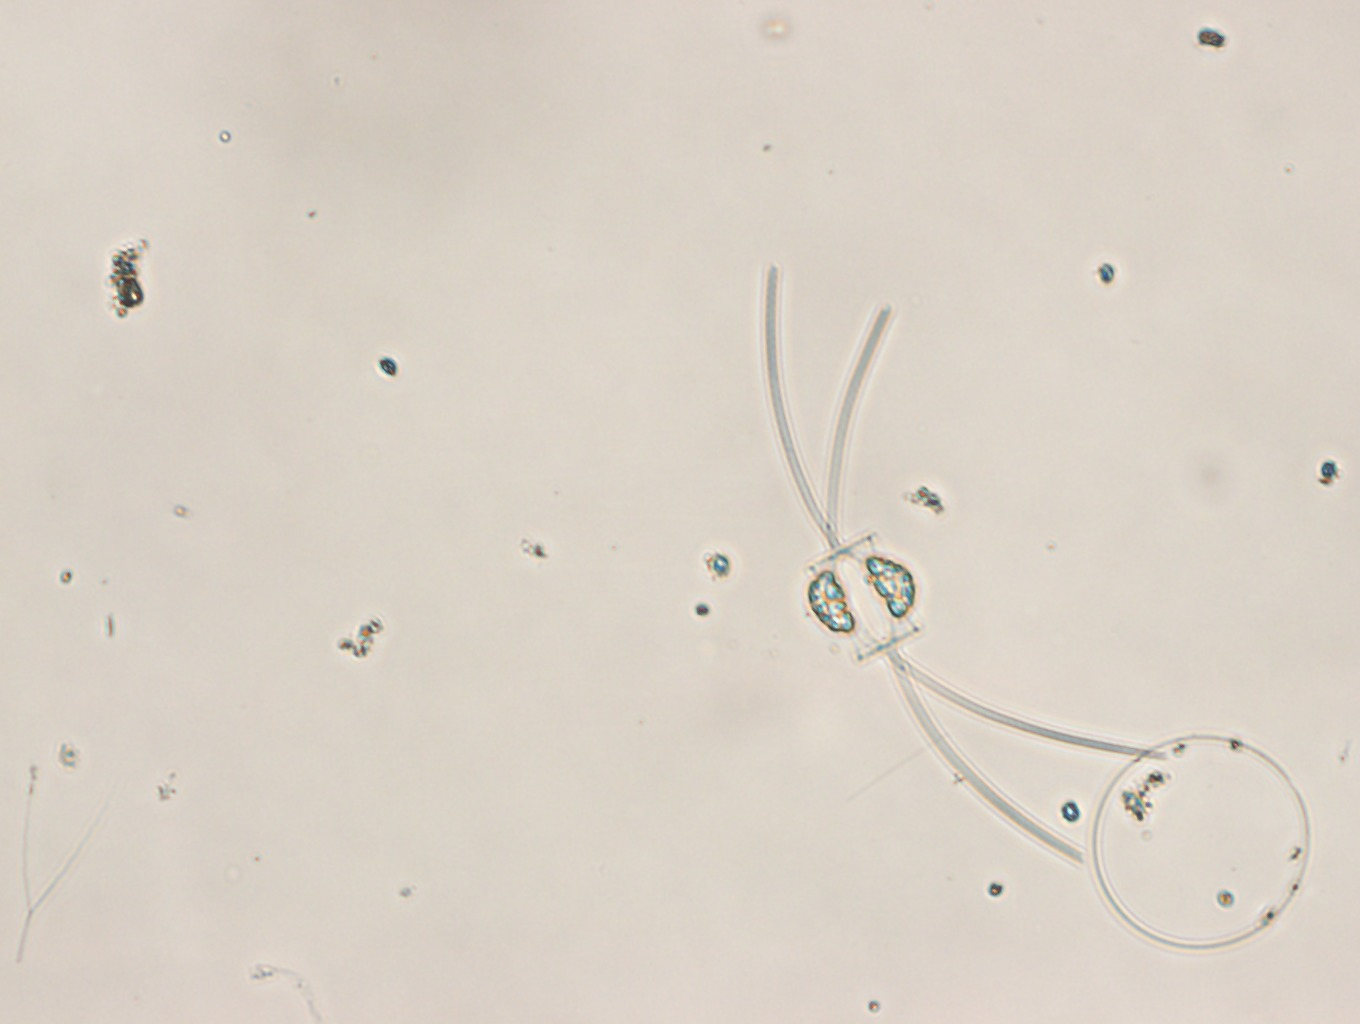chaetoceros: (760, 266, 1170, 869)
